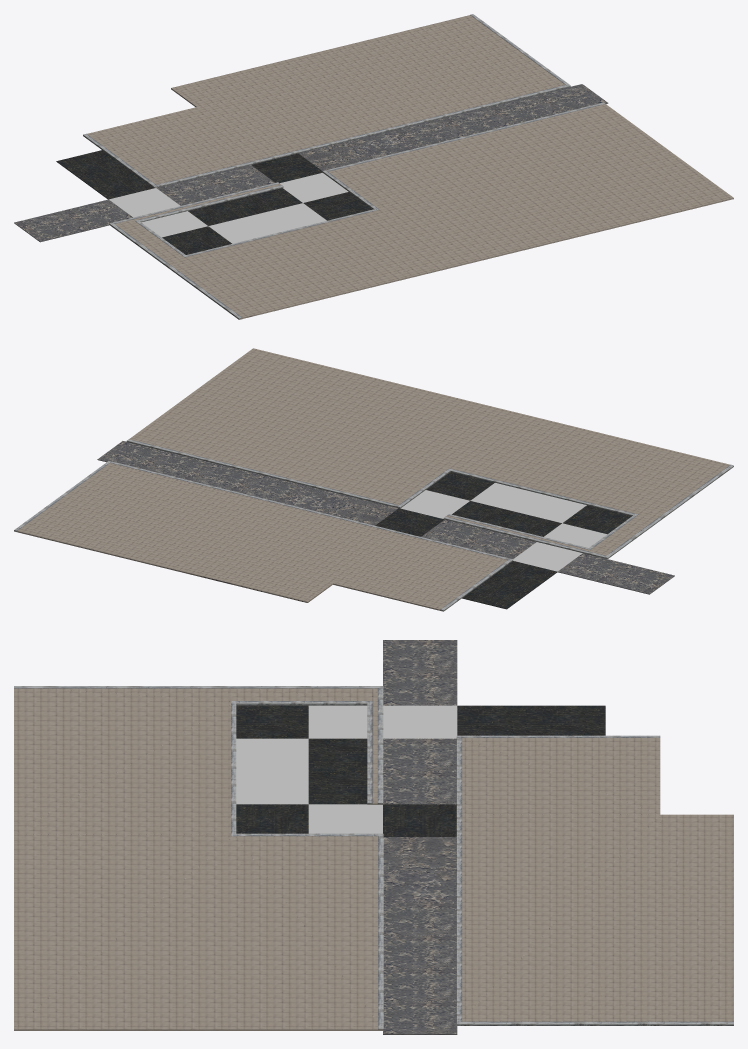
Rendered from Area1Foundation.fbx.
3 views of the same model, one above another, from view 1: azimuth 30°, elevation 25°; view 2: azimuth 150°, elevation 25°; view 3: azimuth 270°, elevation 25° (orthographic). The views are drawn at different scales.
Visible parts, largest first — view 1: Area1Foundation; view 2: Area1Foundation; view 3: Area1Foundation.
Part boxes in pixels (bbox=[...]): Area1Foundation: bbox=[14, 14, 733, 319]; Area1Foundation: bbox=[14, 348, 733, 611]; Area1Foundation: bbox=[14, 640, 733, 1034].
Size of the model in its own units: 647 by 2.4 by 500.
